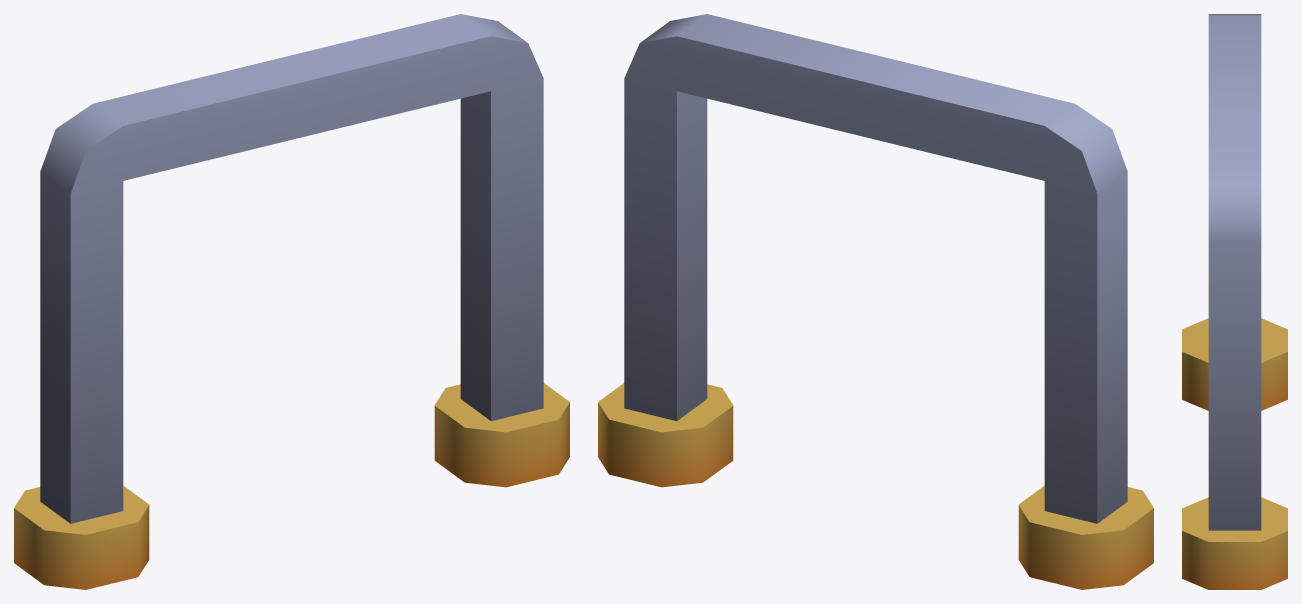
The model's file is rail-narrow.glb.
3 renders of one model, left to right at view 1: azimuth 30°, elevation 25°; view 2: azimuth 150°, elevation 25°; view 3: azimuth 270°, elevation 25°, orthographic. The views are drawn at different scales.
Parts seen in each view (by area): view 1: rail-narrow; view 2: rail-narrow; view 3: rail-narrow.
Boxes of the visible parts, box(x1,y1,x2,y2) form: rail-narrow: box(14, 14, 569, 589); rail-narrow: box(598, 14, 1153, 589); rail-narrow: box(1182, 14, 1287, 589).
Size of the model in its own units: 0.5 by 0.4 by 0.1.
